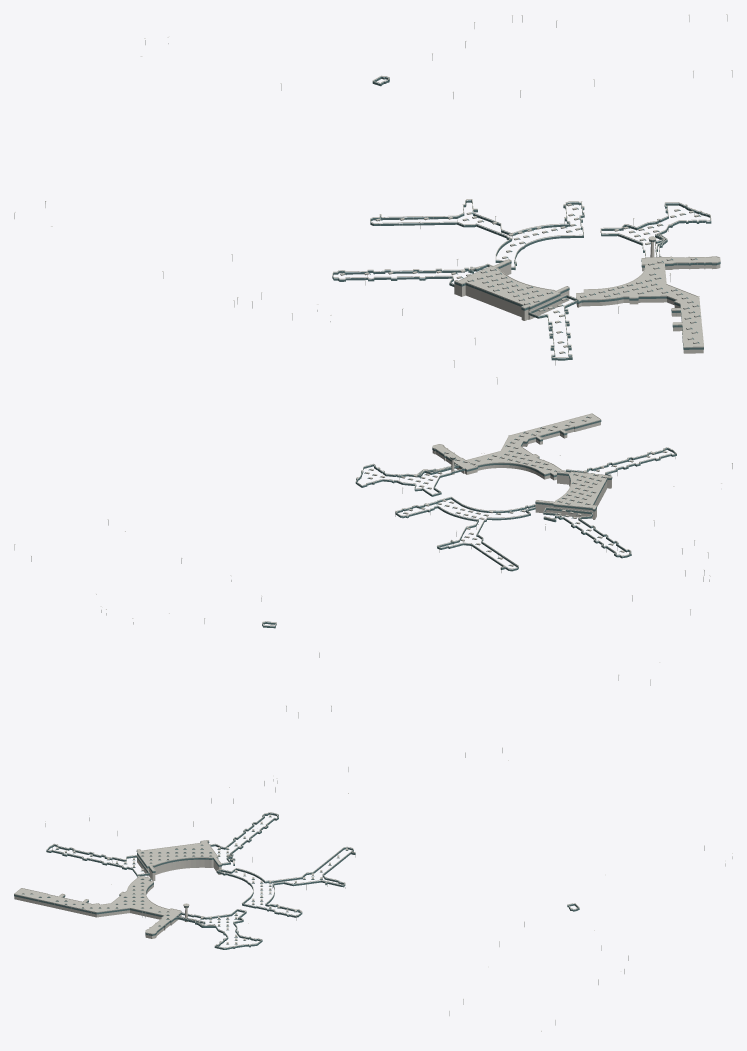
The model's file is airport-detail.glb.
The picture shows the model from 3 angles, top to bottom: view 1: azimuth 30°, elevation 25°; view 2: azimuth 150°, elevation 25°; view 3: azimuth 270°, elevation 25°; orthographic projection. The views are drawn at different scales.
Parts seen in each view (by area): view 1: Warm metal roofs, Curtain glazing, Structural concrete, Roof service equipment; view 2: Warm metal roofs, Curtain glazing, Structural concrete, Roof service equipment; view 3: Warm metal roofs, Curtain glazing, Structural concrete, Roof service equipment.
Part boxes in pixels (x1,y1,x2,y2): Warm metal roofs: (332,75,720,357); Curtain glazing: (332,76,720,360); Structural concrete: (454,237,720,353); Roof service equipment: (14,15,732,384); Warm metal roofs: (262,413,676,625); Curtain glazing: (262,416,676,628); Structural concrete: (432,420,611,519); Roof service equipment: (14,417,732,718); Warm metal roofs: (14,812,579,947); Curtain glazing: (14,813,579,949); Structural concrete: (14,841,221,938); Roof service equipment: (22,748,732,1025).
Bounding box in the file's own units: 2369 × 67.36 × 2533.
